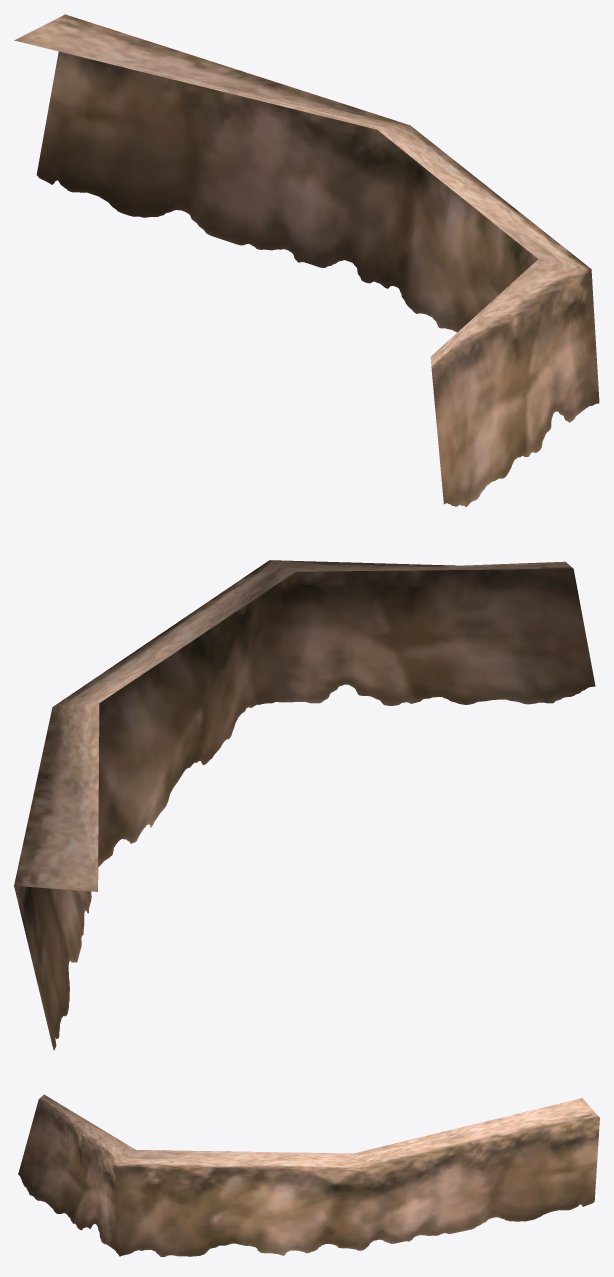
File: EKH_CAVERNS_PS_CA_EDGEGRAB8374656.fbx
The picture shows the model from 3 angles, top to bottom: view 1: azimuth 30°, elevation 25°; view 2: azimuth 150°, elevation 25°; view 3: azimuth 270°, elevation 25°; orthographic projection. The views are drawn at different scales.
Visible parts, largest first — view 1: EKH_CAVERNS_PS_CA_EDGEGRAB8374656; view 2: EKH_CAVERNS_PS_CA_EDGEGRAB8374656; view 3: EKH_CAVERNS_PS_CA_EDGEGRAB8374656.
Part boxes in pixels (box(x1,y1,x2,y2)): EKH_CAVERNS_PS_CA_EDGEGRAB8374656: box(14, 14, 599, 506); EKH_CAVERNS_PS_CA_EDGEGRAB8374656: box(14, 560, 595, 1050); EKH_CAVERNS_PS_CA_EDGEGRAB8374656: box(18, 1094, 599, 1256).
Bounding box in the file's own units: 8077 × 5551 × 27222.
1 material, 1 textured.
